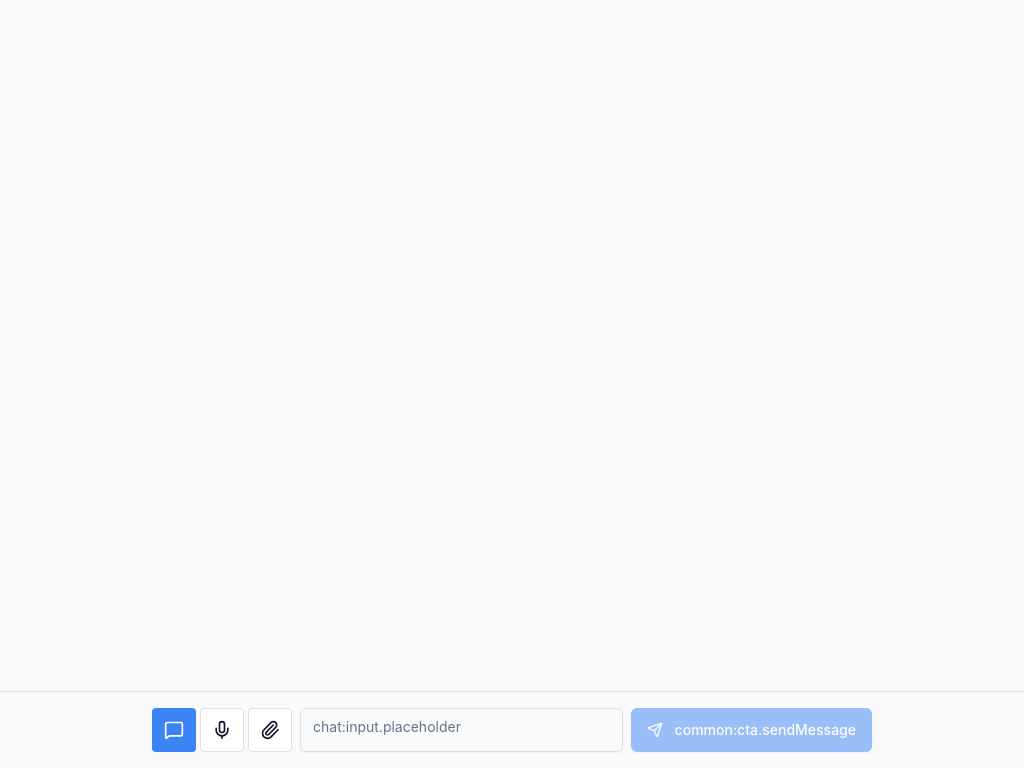
Test: ChatPage › creates optimistic pending message on send
The width and height of the screenshot is (1024, 768).
// Now the send button should be enabled
Type "hello" into the text box at coordinates (461, 730), box [300,708,623,752]
Then press Enter
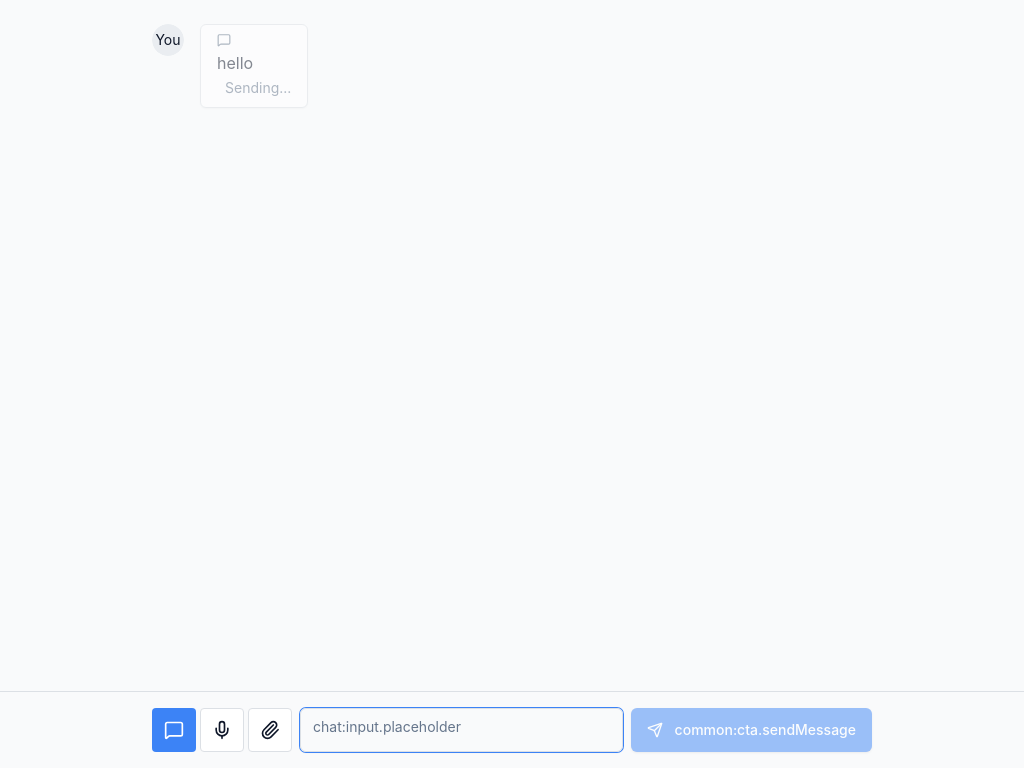
Expected: the text "hello" is shown, [217,53,253,73]
Expected: the text "Sending..." is shown, [225,79,291,96]
